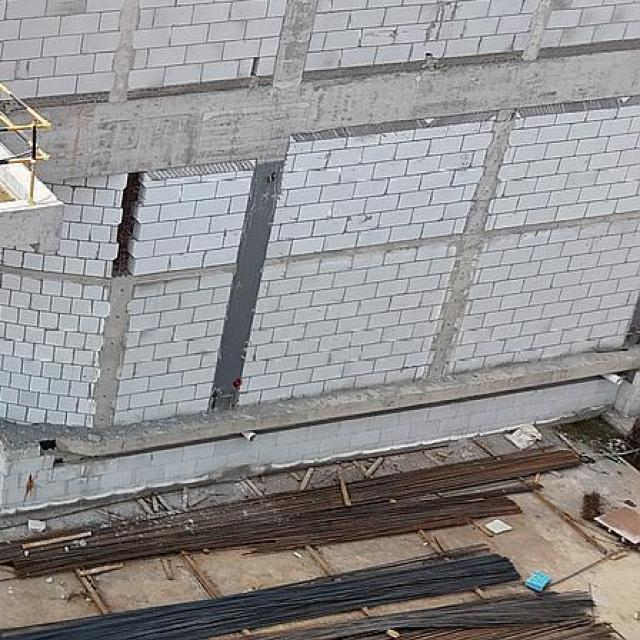Guardrail: (0, 77, 54, 204)
